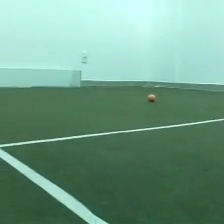ball: (146, 91, 157, 103)
goal: (1, 66, 83, 91)
